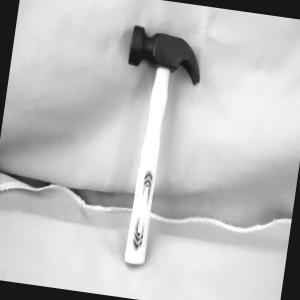martelo: (100, 24, 208, 272)
